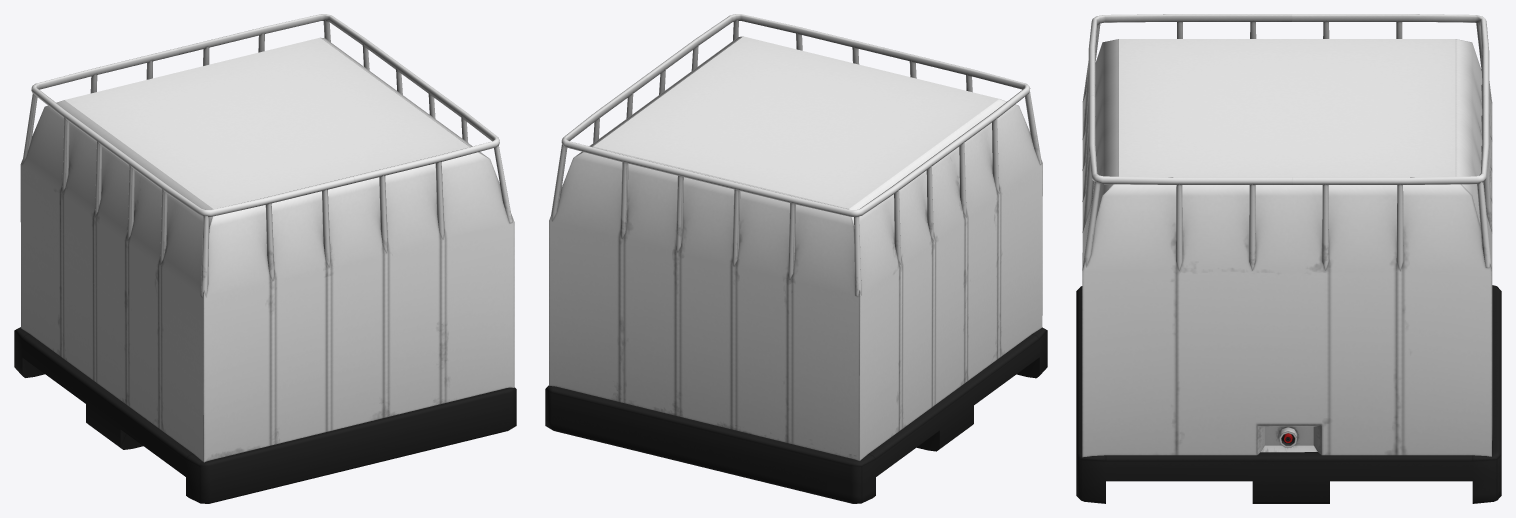
Rendered from liquidContainerLarge.fbx.
3 renders of one model, left to right at view 1: azimuth 30°, elevation 25°; view 2: azimuth 150°, elevation 25°; view 3: azimuth 270°, elevation 25°, orthographic. The views are drawn at different scales.
Visible parts, largest first — view 1: liquidContainerLarge; view 2: liquidContainerLarge; view 3: liquidContainerLarge.
Boxes of the visible parts, left/top/right/bottom form: liquidContainerLarge: left=14, top=14, right=516, bottom=503; liquidContainerLarge: left=545, top=14, right=1047, bottom=503; liquidContainerLarge: left=1076, top=14, right=1501, bottom=503.
Size of the model in its own units: 0.7751 by 0.6621 by 0.7899.
